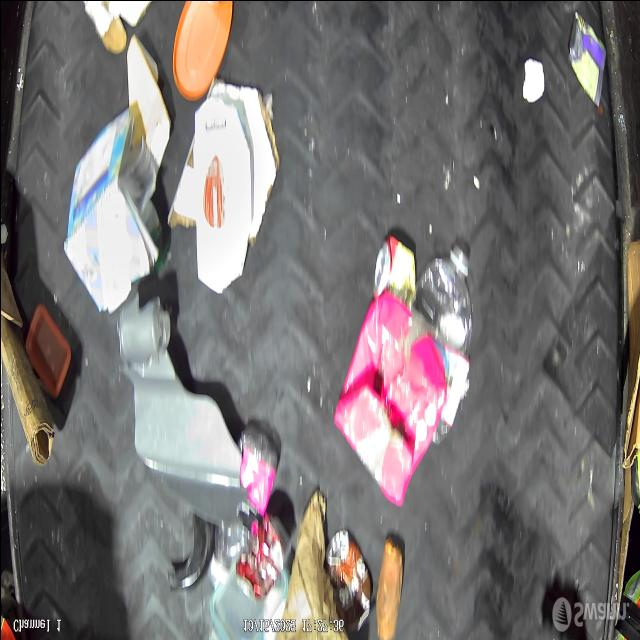can: (324, 528, 374, 640), (372, 226, 419, 318), (570, 10, 608, 106)
plastic_bottle: (419, 237, 475, 449), (208, 419, 280, 579)
